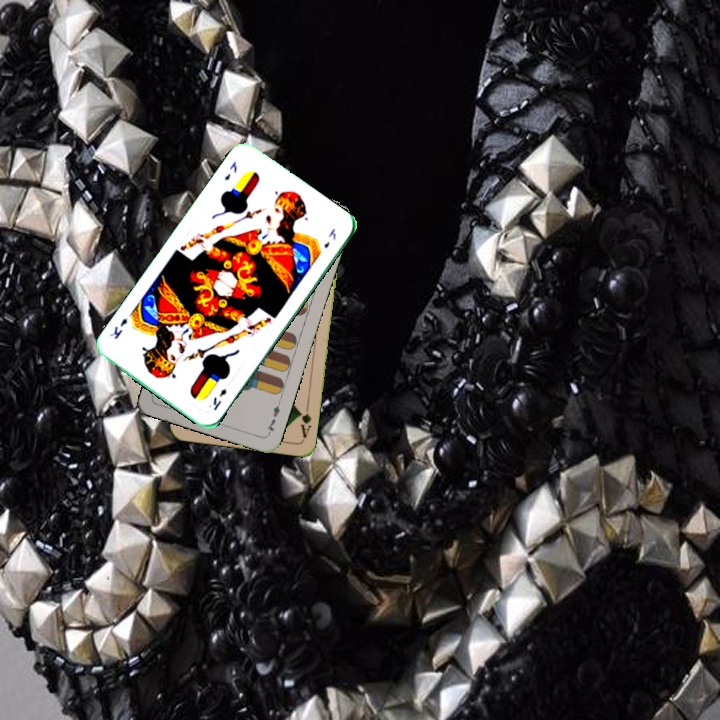E7: (262, 398, 283, 437)
EK: (209, 385, 229, 413), (220, 157, 240, 183)
GA: (295, 400, 314, 440)
